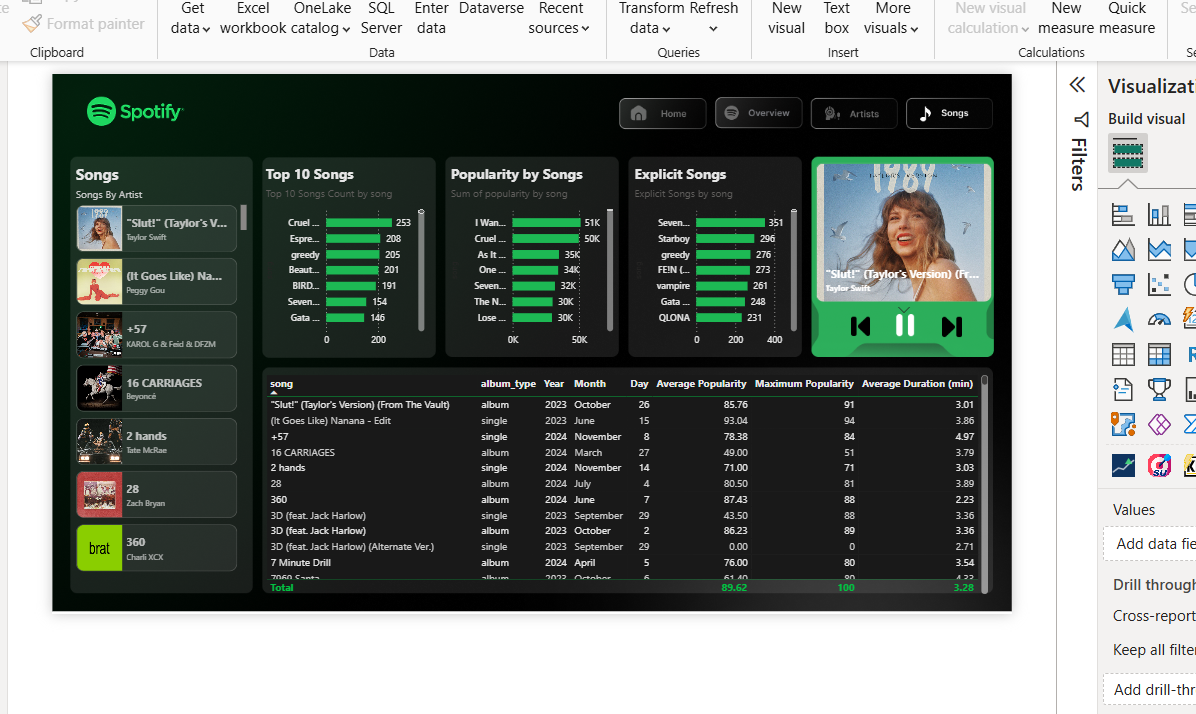

What the dashboard file says about the page in this screenshot:
{"tool":"powerbi","page":{"name":"Songs","canvas":[1280,720],"ordinal":3},"visuals":[{"type":"actionButton","box":[757.3,31.9,114.2,40],"z":0},{"type":"actionButton","box":[885.8,31.9,112.1,40],"z":1000},{"type":"actionButton","box":[1012.1,32.4,114.2,40],"z":2000},{"type":"actionButton","box":[1138.9,31.9,112.6,40],"z":3000},{"type":"advancedSlicerVisual","title":"Songs","fields":{"Values":["Top-50-World.song"]},"box":[1013.3,93.3,245,236.7],"z":4000},{"type":"image","box":[1091.7,319.3,92.5,29.5],"z":5000},{"type":"image","box":[1162.7,322,73.8,30.8],"z":6000},{"type":"image","box":[1052.8,322,49.6,29.5],"z":7000},{"type":"clusteredBarChart","title":"Top 10 Songs","fields":{"Category":["Top-50-World.song"],"Y":["'Measures'.Top 10 Songs Count"]},"box":[280,120,221.7,251.7],"z":8000},{"type":"clusteredBarChart","title":"Popularity by Songs","fields":{"Category":["Spotify-Top-50-World.song"],"Y":["Sum(Spotify-Top-50-World.popularity)"]},"box":[526.7,120,226.7,251.7],"z":9000},{"type":"advancedSlicerVisual","title":"Songs","fields":{"Values":["Top-50-World.song"]},"box":[26.7,120,238.3,553.3],"z":10000},{"type":"clusteredBarChart","title":"Explicit Songs","fields":{"Category":["Spotify-Top-50-World.song"],"Y":["'Measures'.Explicit Songs"]},"box":[771.7,120,226.7,251.7],"z":11000},{"type":"tableEx","fields":{"Values":["Top-50-World.song","Top-50-World.album_type","Top-50-World.release_date.Variation.Date Hierarchy.Year","Top-50-World.release_date.Variation.Date Hierarchy.Month","Top-50-World.release_date.Variation.Date Hierarchy.Day","'Measures'.Average Popularity","'Measures'.Maximum Popularity","'Measures'.Average Duration (min)"]},"box":[280,396.7,973.3,301.7],"z":12000}]}

Visuals, with their boxes on the page's 1280x720 design canvas (x1, y1, x2, y2). These are canvas units, not pixel positions in the 1196x714 screenshot, which may show the page scaled, cropped or inside an application window:
actionButton: {"x1": 757, "y1": 32, "x2": 872, "y2": 72}
actionButton: {"x1": 886, "y1": 32, "x2": 998, "y2": 72}
actionButton: {"x1": 1012, "y1": 32, "x2": 1126, "y2": 72}
actionButton: {"x1": 1139, "y1": 32, "x2": 1252, "y2": 72}
"Songs" advancedSlicerVisual: {"x1": 1013, "y1": 93, "x2": 1258, "y2": 330}
image: {"x1": 1092, "y1": 319, "x2": 1184, "y2": 349}
image: {"x1": 1163, "y1": 322, "x2": 1236, "y2": 353}
image: {"x1": 1053, "y1": 322, "x2": 1102, "y2": 352}
"Top 10 Songs" clusteredBarChart: {"x1": 280, "y1": 120, "x2": 502, "y2": 372}
"Popularity by Songs" clusteredBarChart: {"x1": 527, "y1": 120, "x2": 753, "y2": 372}
"Songs" advancedSlicerVisual: {"x1": 27, "y1": 120, "x2": 265, "y2": 673}
"Explicit Songs" clusteredBarChart: {"x1": 772, "y1": 120, "x2": 998, "y2": 372}
tableEx - Top-50-World.song x Top-50-World.album_type: {"x1": 280, "y1": 397, "x2": 1253, "y2": 698}
